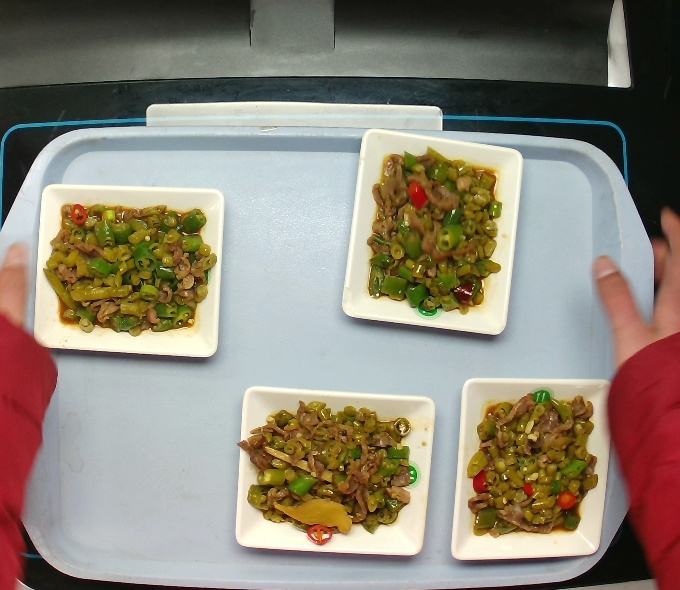wcq-SuanDouJiaoChaoJiZhen: (32, 192, 225, 344), (234, 401, 428, 548), (359, 151, 506, 316), (462, 388, 597, 542)
